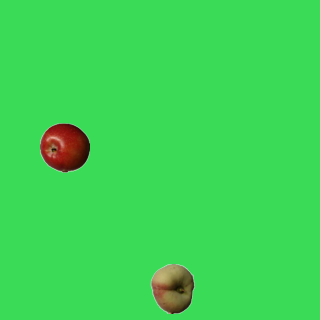Apple Braeburn: (39, 122, 89, 172)
Peach Flat: (147, 263, 197, 313)
